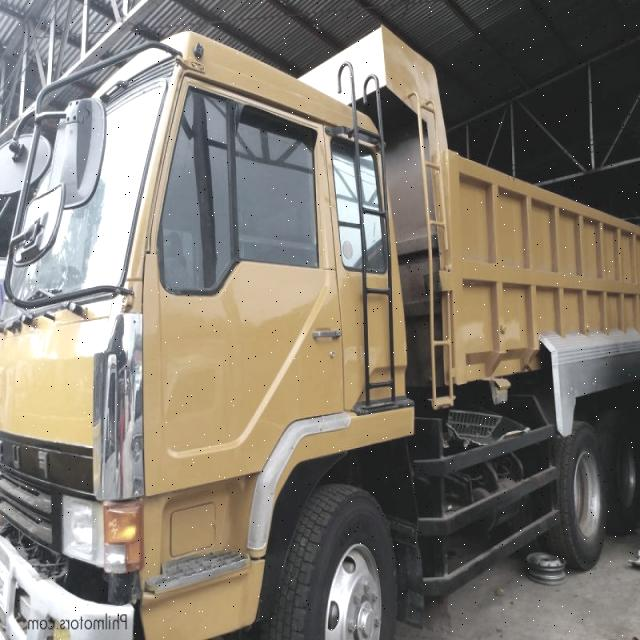truck: (1, 27, 640, 639)
